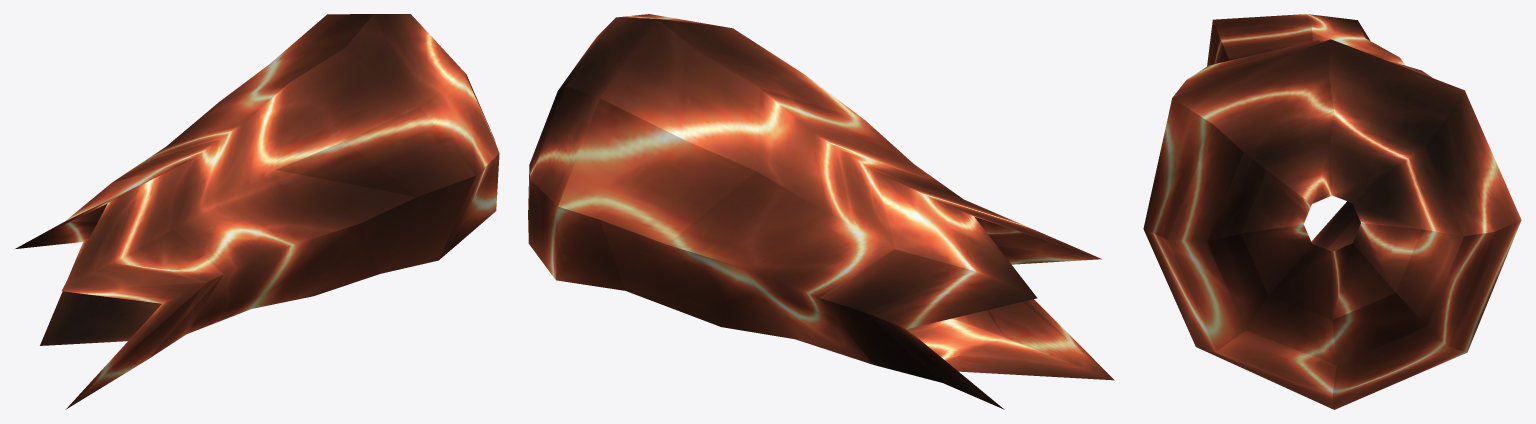
File: PM_Monster_Buzzwole_Mega2_3.fbx
The picture shows the model from 3 angles, left to right: view 1: azimuth 30°, elevation 25°; view 2: azimuth 150°, elevation 25°; view 3: azimuth 270°, elevation 25°; orthographic projection. The views are drawn at different scales.
Parts seen in each view (by area): view 1: zhao_zi_1; view 2: zhao_zi_1; view 3: zhao_zi_1.
Boxes of the visible parts, <box> form: zhao_zi_1: <box>15,14,499,409</box>; zhao_zi_1: <box>528,14,1114,409</box>; zhao_zi_1: <box>1143,14,1521,409</box>.
Bounding box in the file's own units: 1.1 × 0.6376 × 0.5817.
